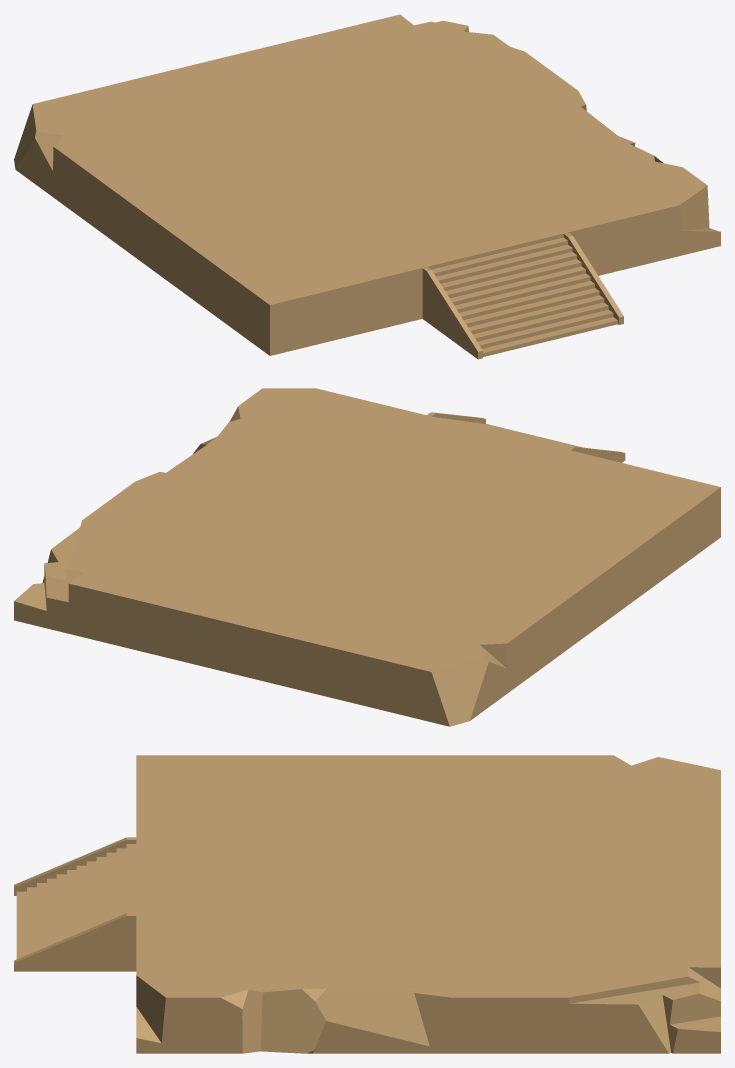
File: WestObelisk_Platform.fbx
3 views of the same model, one above another, from view 1: azimuth 30°, elevation 25°; view 2: azimuth 150°, elevation 25°; view 3: azimuth 270°, elevation 25° (orthographic). The views are drawn at different scales.
Parts seen in each view (by area): view 1: SunPillarPlatform, sunPillarStairs; view 2: SunPillarPlatform, sunPillarStairs; view 3: SunPillarPlatform, sunPillarStairs.
Part boxes in pixels (x1,y1,x2,y2): SunPillarPlatform: [14, 14, 720, 355]; sunPillarStairs: [422, 232, 623, 359]; SunPillarPlatform: [14, 388, 720, 726]; sunPillarStairs: [427, 412, 625, 462]; SunPillarPlatform: [136, 755, 720, 1053]; sunPillarStairs: [14, 837, 136, 971].
Size of the model in its own units: 2016 by 217 by 2476.
